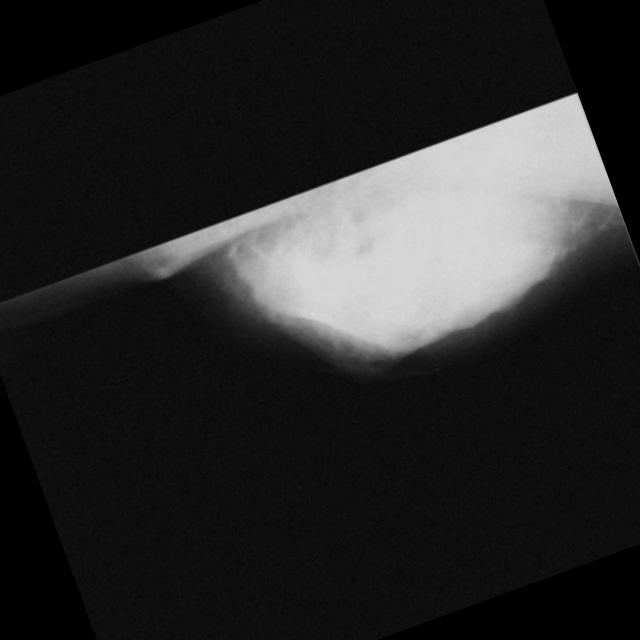SPIC: (248, 214, 356, 322)
